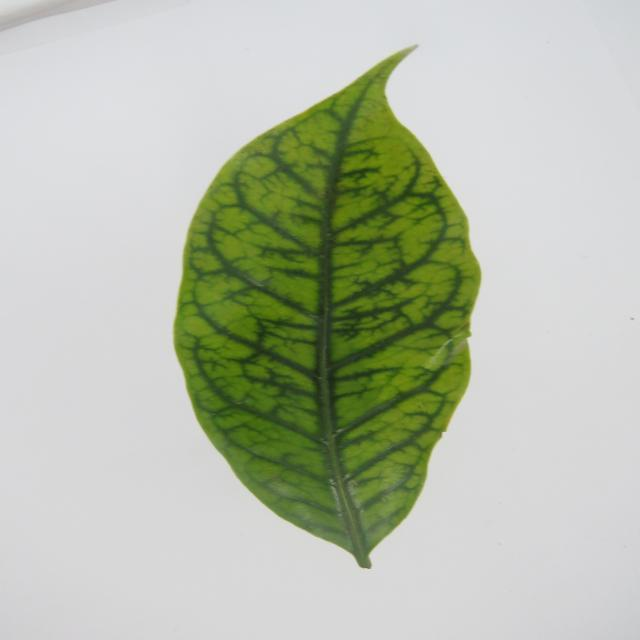DeficienciaNutricional-Manganeso: (175, 46, 480, 568)
